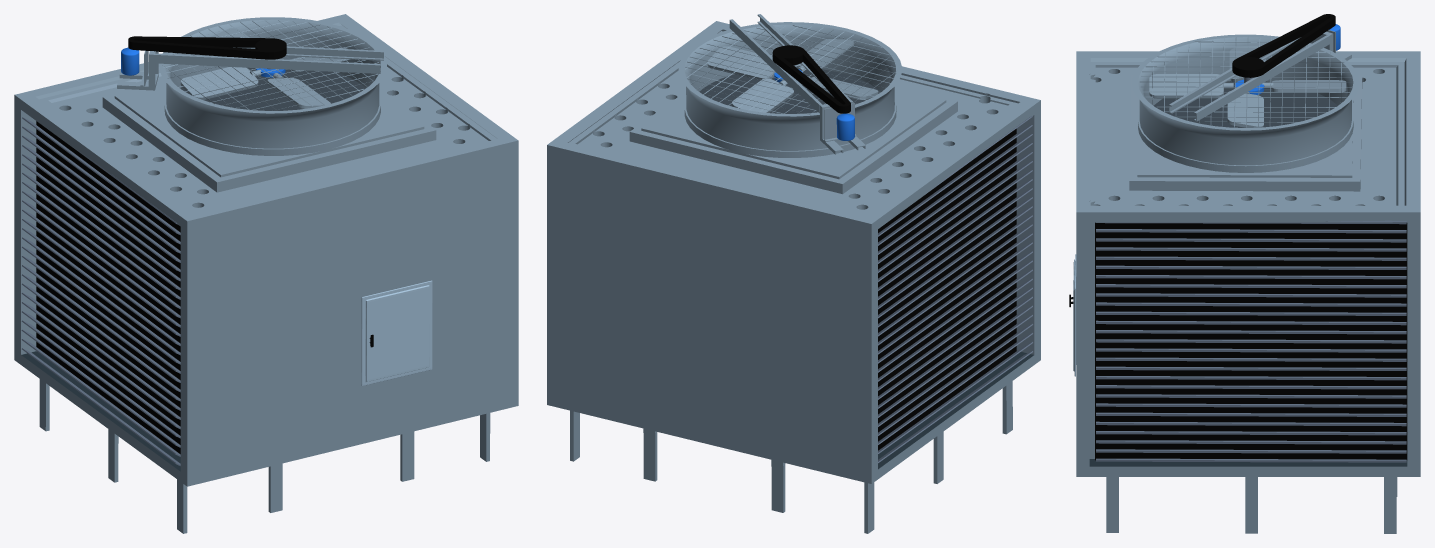
File: 冷却塔.glb
The picture shows the model from 3 angles, left to right: view 1: azimuth 30°, elevation 25°; view 2: azimuth 150°, elevation 25°; view 3: azimuth 270°, elevation 25°; orthographic projection. The views are drawn at different scales.
Visible parts, largest first — view 1: 立方体.094, 其他-2.163, 立方体.102, 柱体.166, 立方体.096, 立方体.095, 其他-2.151, 柱体.163, 其他-2.156, 柱体.167, 其他-2.142, 其他-2.149 (+2 smaller); view 2: 立方体.094, 其他-2.163, 立方体.102, 柱体.166, 立方体.096, 柱体.163, 其他-2.156, 其他-2.151, 柱体.167, 其他-2.142, 其他-2.159, 其他-2.150; view 3: 其他-2.162, 立方体.094, 立方体.097, 柱体.166, 立方体.096, 其他-2.156, 柱体.163, 柱体.167, 其他-2.142, 其他-2.151, 其他-2.158, 其他-2.150 (+2 smaller).
Part boxes in pixels (x1,y1,x2,y2): 立方体.094: (14, 14, 518, 486); 其他-2.163: (36, 121, 180, 454); 立方体.102: (21, 117, 180, 465); 柱体.166: (159, 17, 386, 155); 立方体.096: (102, 82, 436, 192); 立方体.095: (361, 280, 432, 385); 其他-2.151: (39, 379, 490, 533); 柱体.163: (180, 28, 349, 108); 其他-2.156: (162, 20, 378, 110); 柱体.167: (180, 67, 365, 110); 其他-2.142: (128, 36, 286, 59); 其他-2.149: (155, 53, 380, 73); 立方体.094: (547, 21, 1040, 483); 其他-2.163: (878, 128, 1016, 450); 立方体.102: (878, 116, 1032, 463); 柱体.166: (678, 22, 901, 157); 立方体.096: (629, 86, 957, 194); 柱体.163: (707, 39, 878, 112); 其他-2.156: (685, 25, 896, 114); 其他-2.151: (570, 381, 1012, 533); 柱体.167: (699, 69, 880, 113); 其他-2.142: (772, 45, 850, 113); 其他-2.159: (878, 352, 1033, 469); 其他-2.150: (729, 19, 821, 113); 其他-2.162: (1095, 222, 1407, 460); 立方体.094: (1076, 51, 1420, 476); 立方体.097: (1096, 220, 1406, 462); 柱体.166: (1132, 34, 1359, 172); 立方体.096: (1129, 74, 1362, 191); 其他-2.156: (1140, 36, 1352, 127); 柱体.163: (1149, 43, 1346, 127); 柱体.167: (1153, 81, 1337, 127); 其他-2.142: (1232, 14, 1335, 77); 其他-2.151: (1106, 477, 1397, 533); 其他-2.158: (1089, 459, 1407, 466); 其他-2.150: (1194, 35, 1329, 121).
Size of the model in its own units: 73.46 by 83.94 by 67.2.
